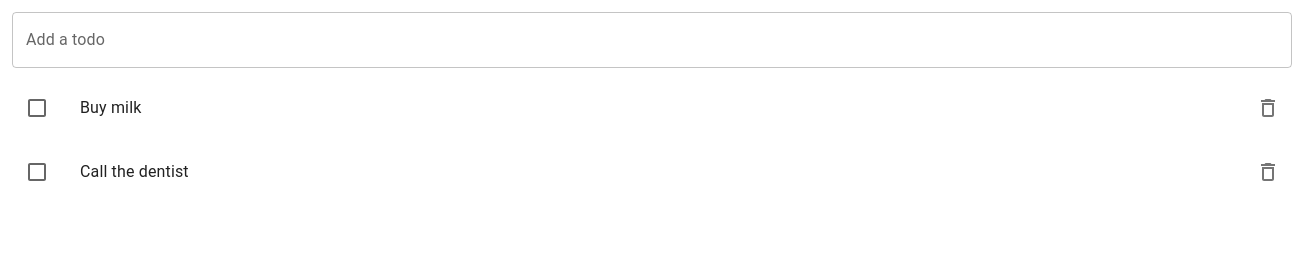
Test: checking a todo moves it into Done right away and saves it as done
Click the checkbox labelled "Buy milk": (37, 108) [25, 96, 49, 120]
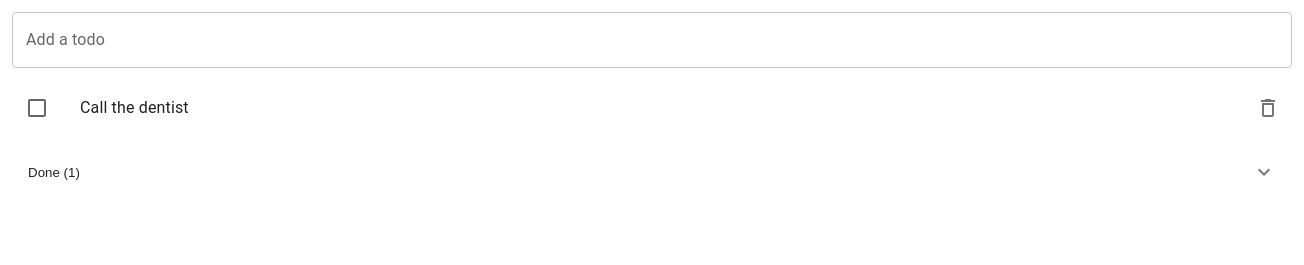
Click the button "Done (1)": (48, 172) [12, 148, 1292, 196]
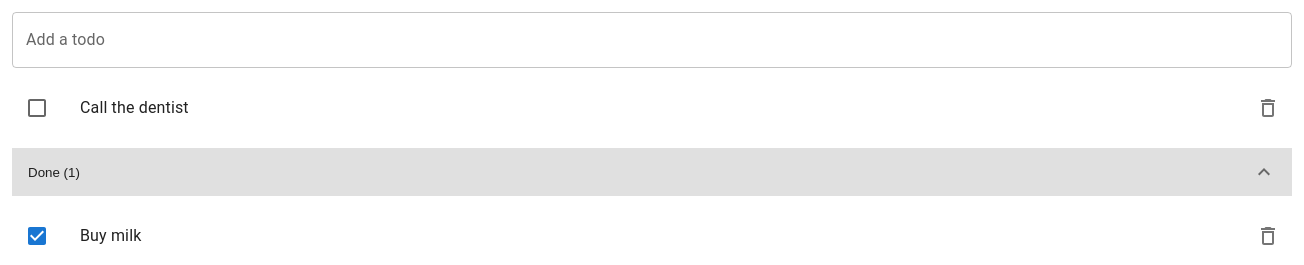
Result: the checkbox labelled "Buy milk" is checked at [25, 224, 49, 248]
